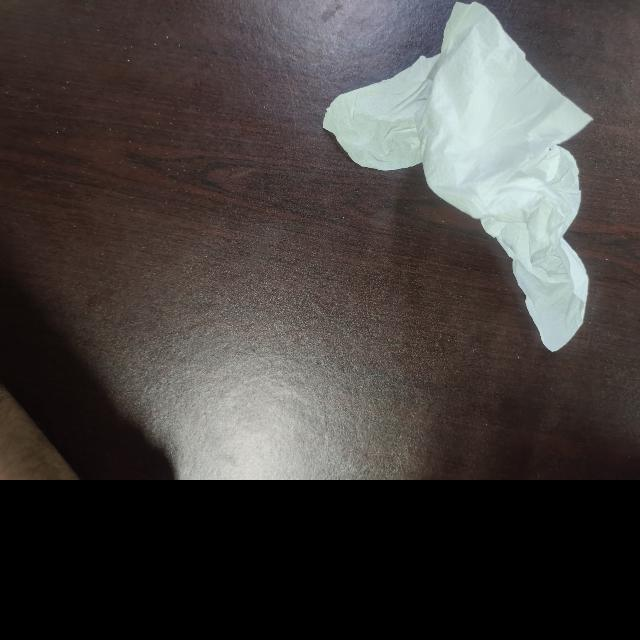kitchen paper: (314, 0, 600, 362)
